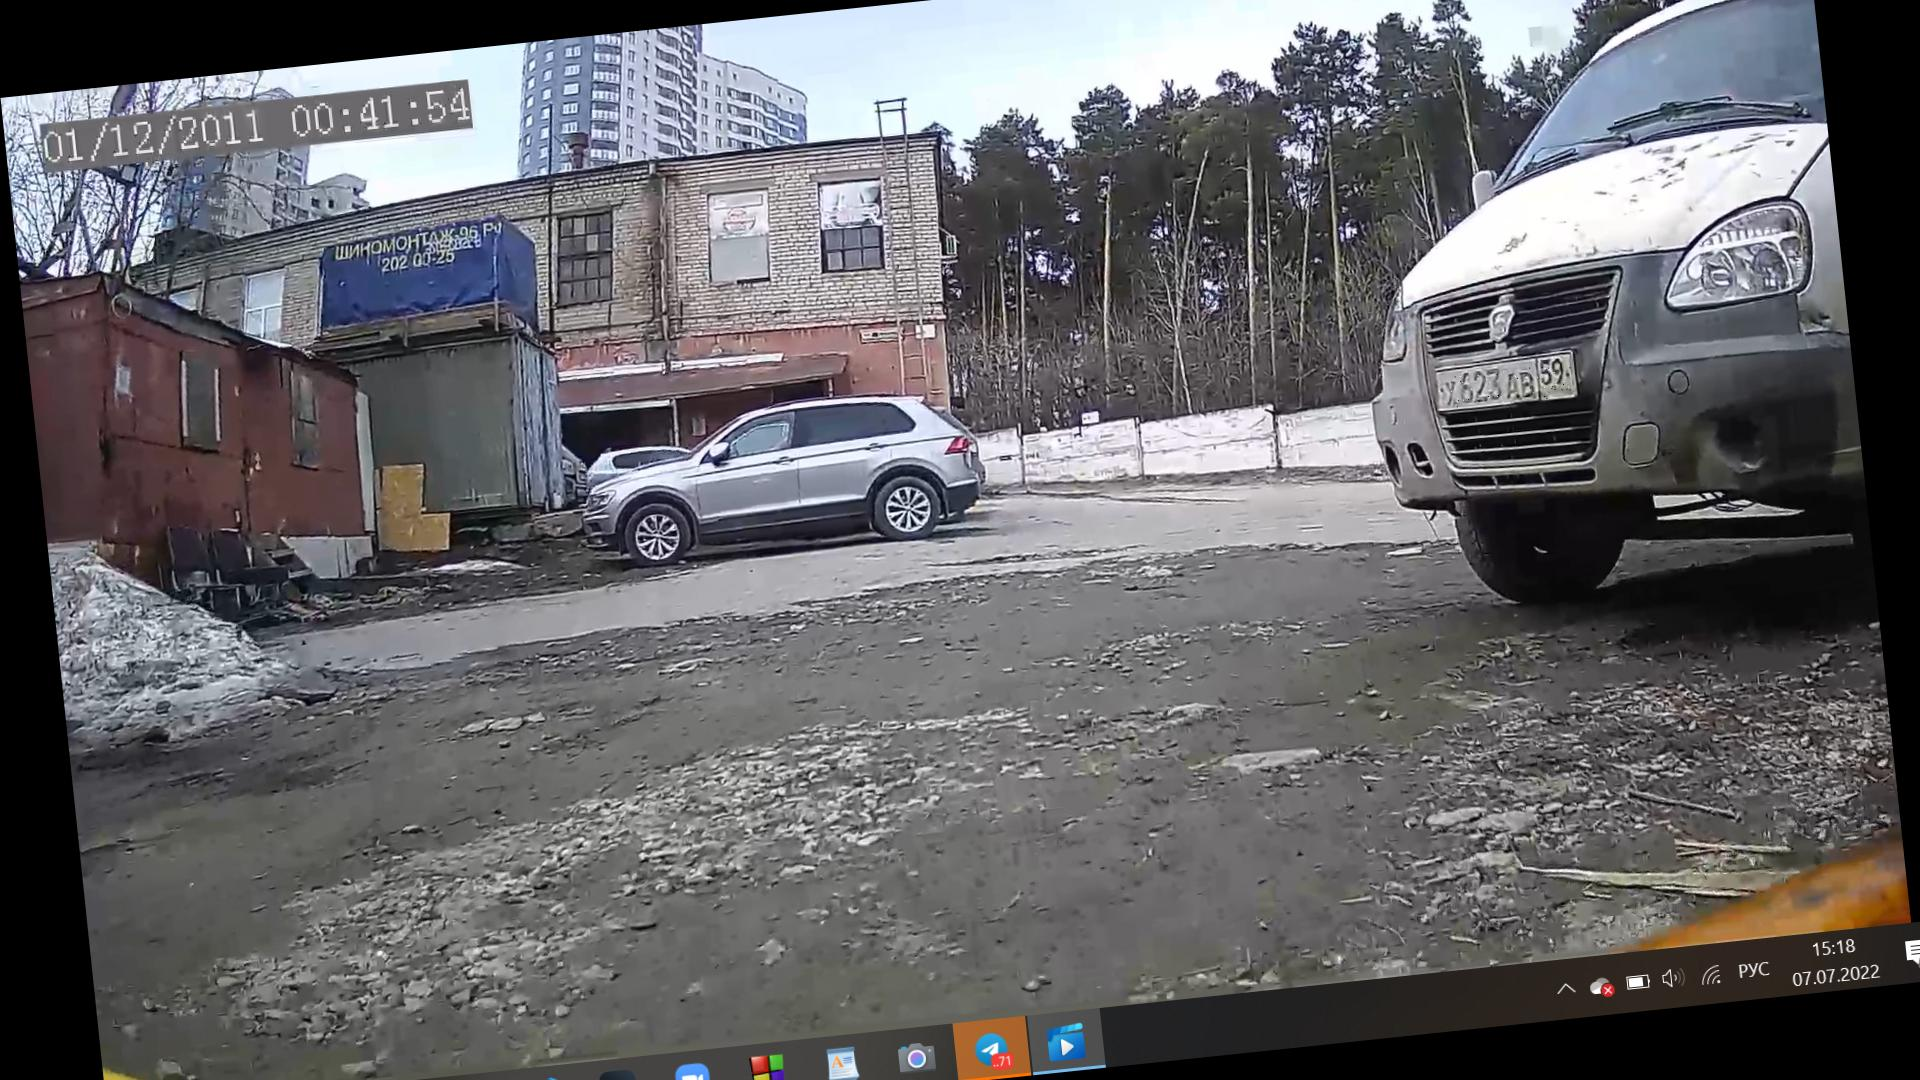plate: (1451, 360, 1579, 411)
